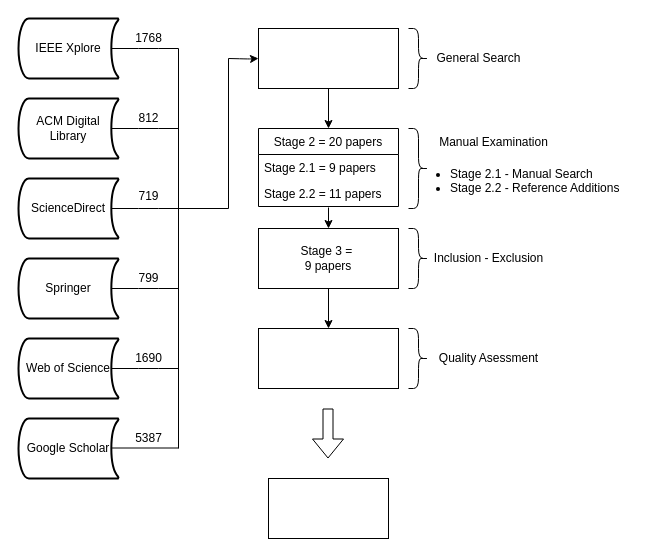
Image size: 645x556. Some labels were removed from this diagram. Here are the shapes that lost their labels. From the top down, the centre of each, then its label:
(x=328, y=58): Stage 1 = 11175 papers
(x=328, y=358): Stage 4 = 8 papers
(x=328, y=508): 8 selected papers
